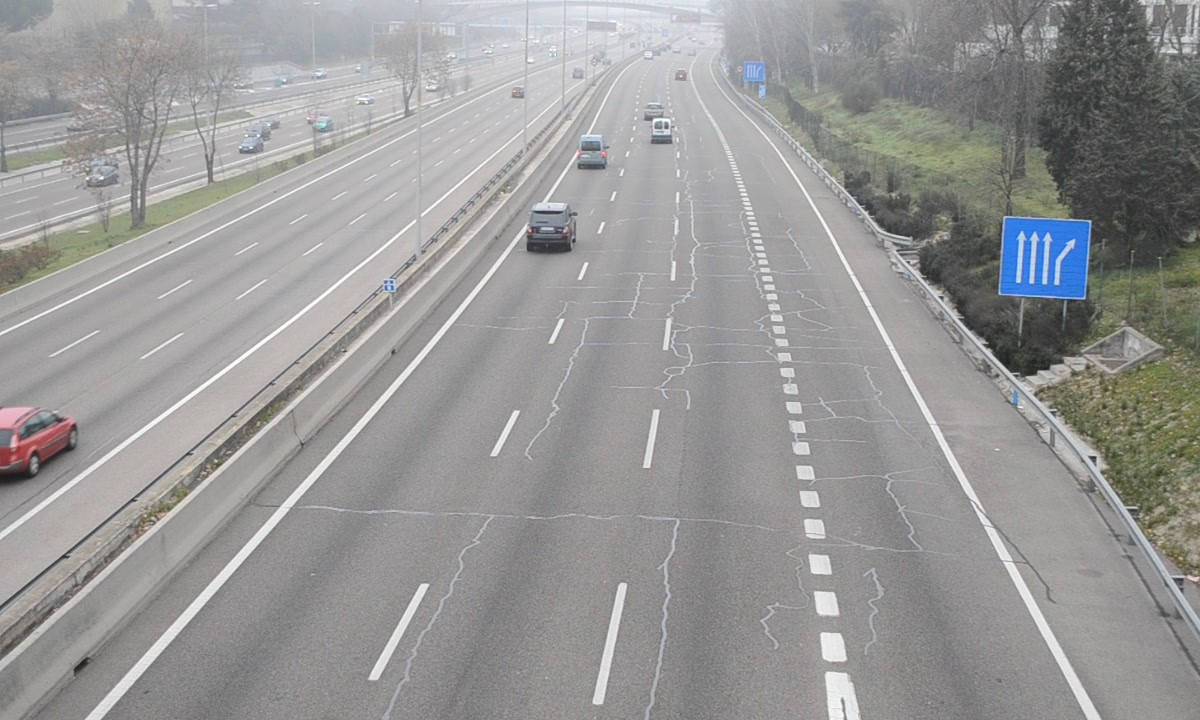car: (525, 203, 575, 251)
van: (577, 134, 606, 171)
